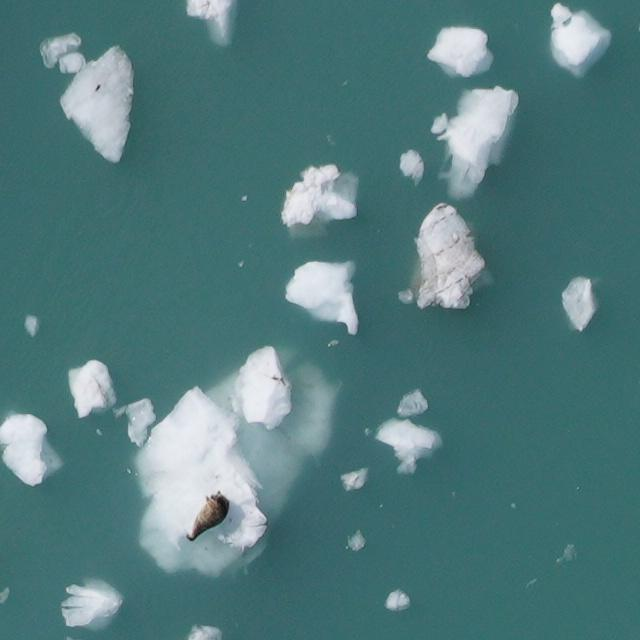seal: (184, 487, 235, 551)
